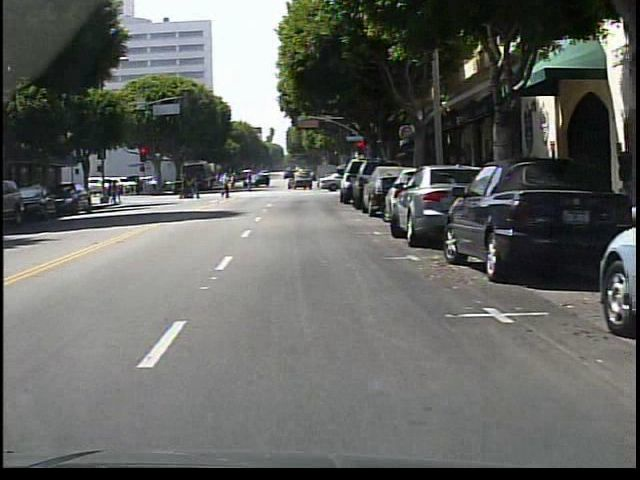person: (213, 170, 234, 199)
